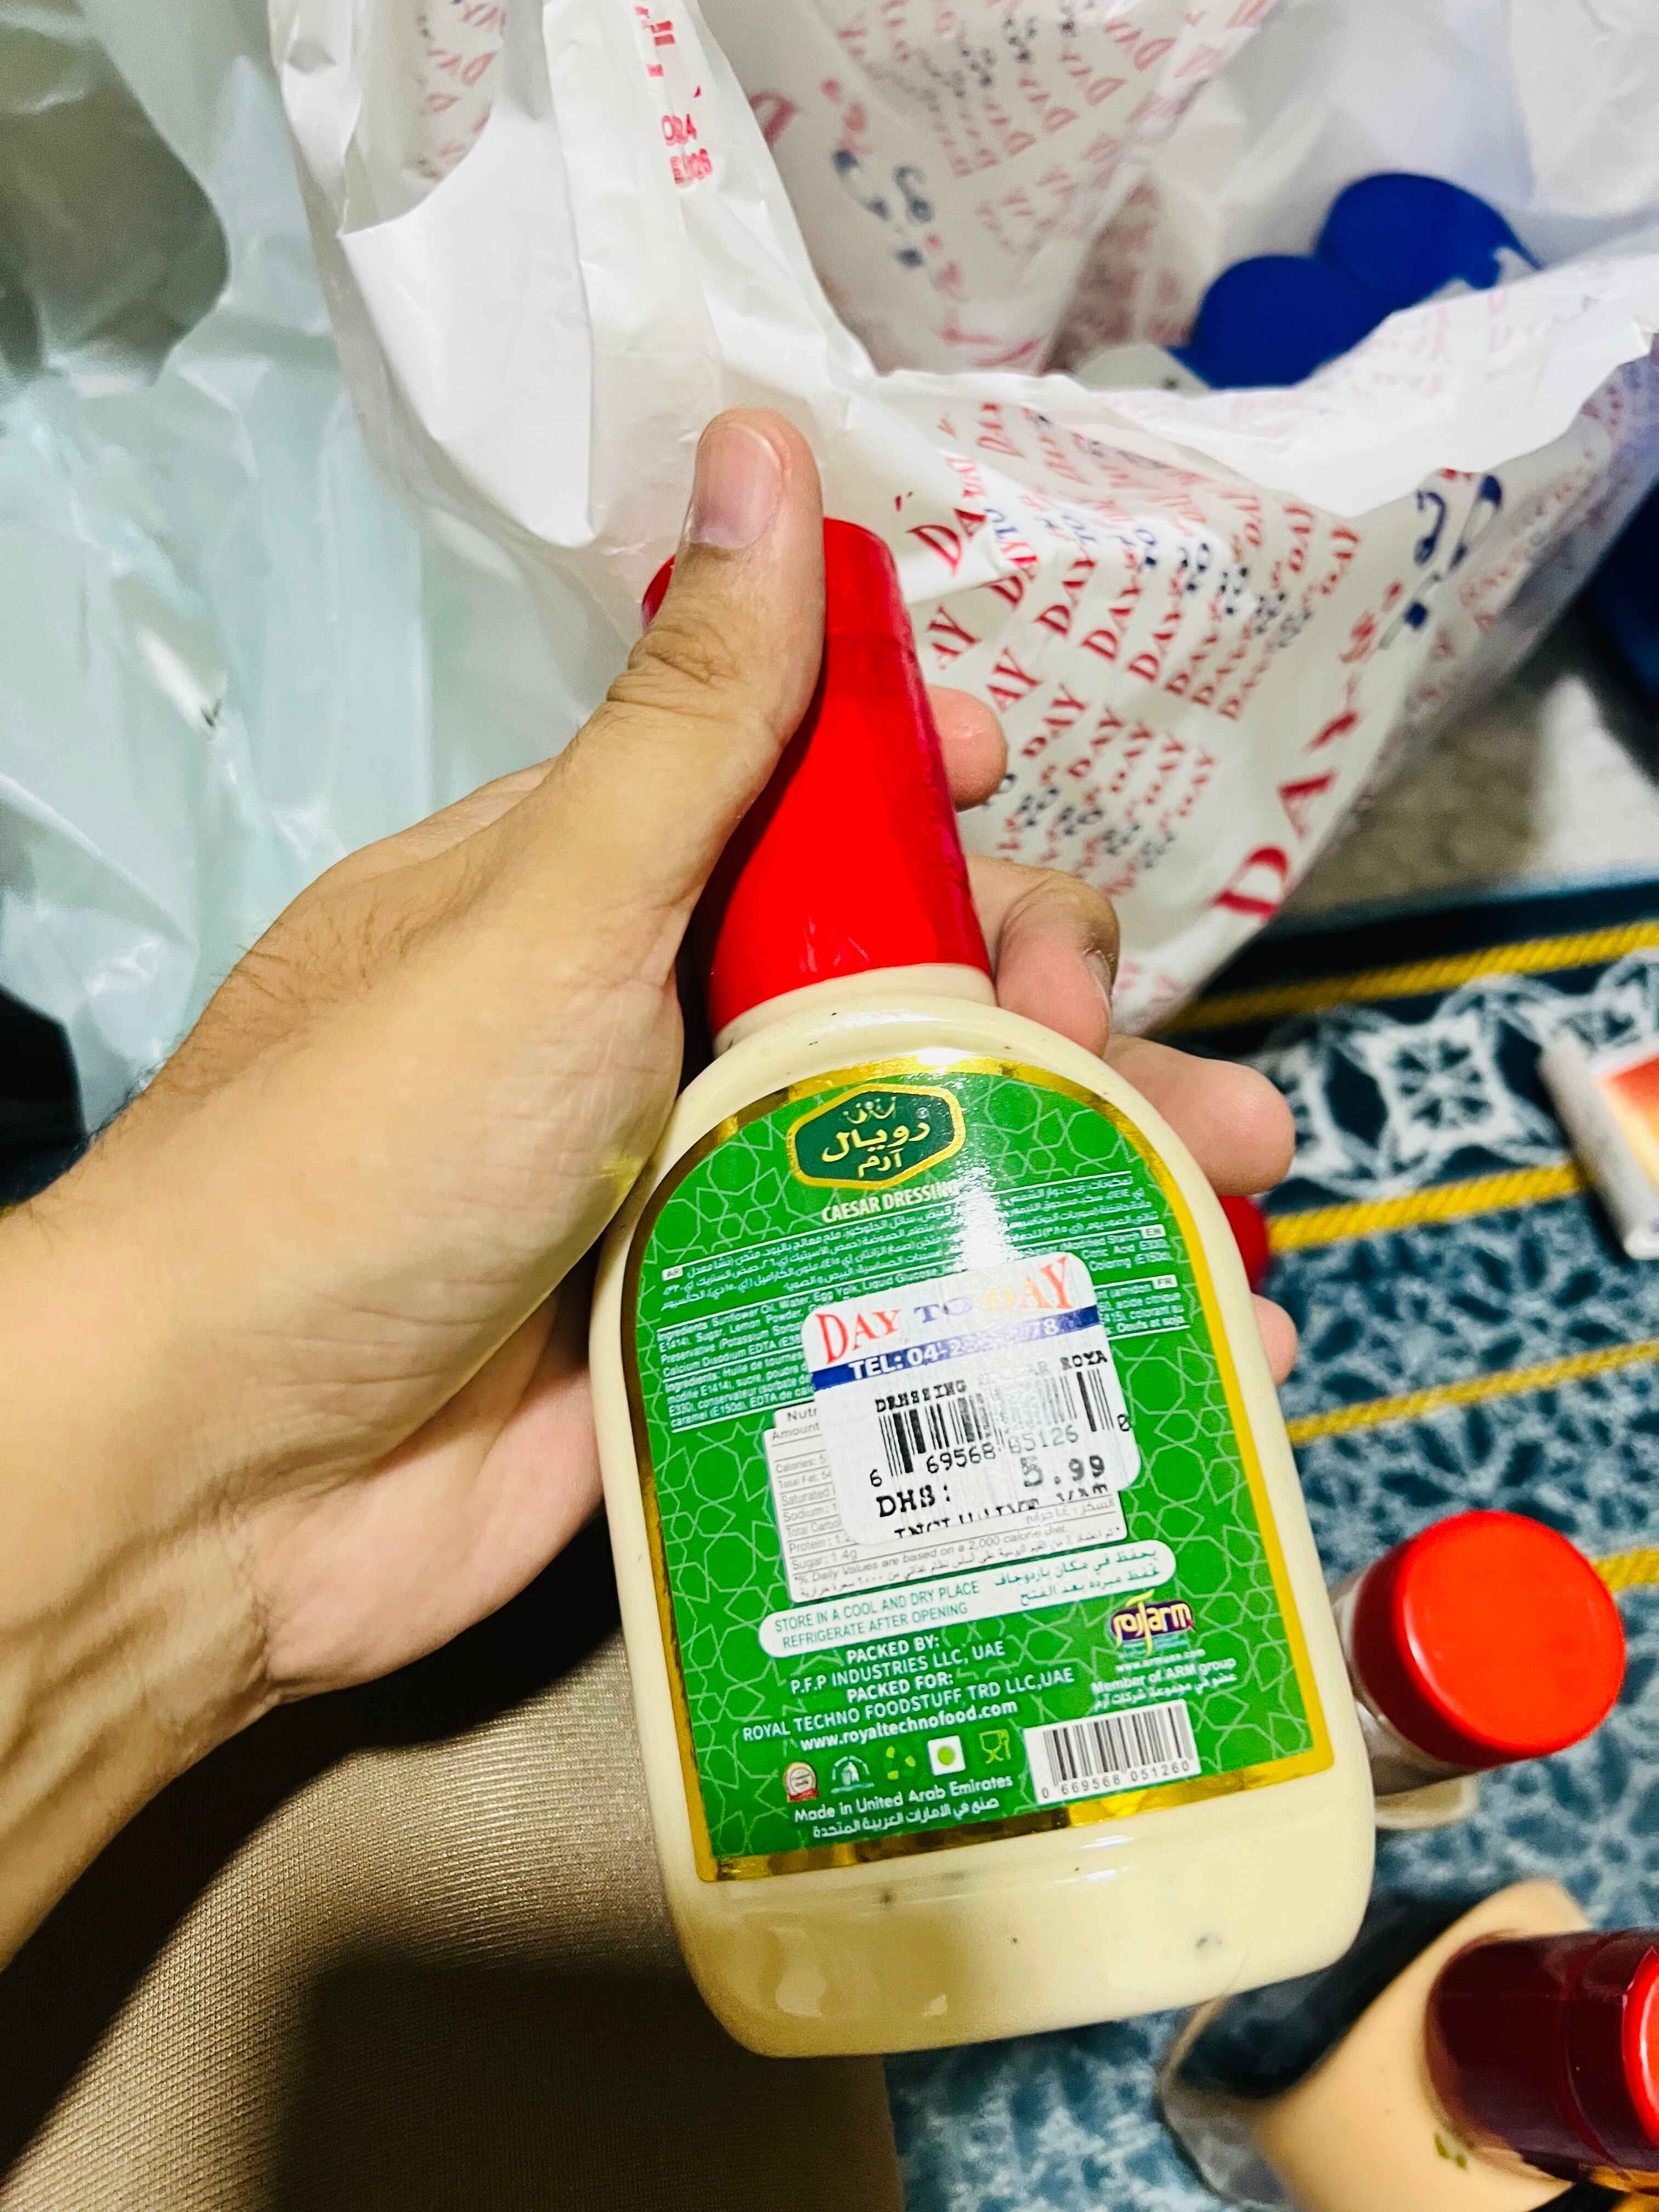PriceTagBig: (800, 1258, 1143, 1538)
